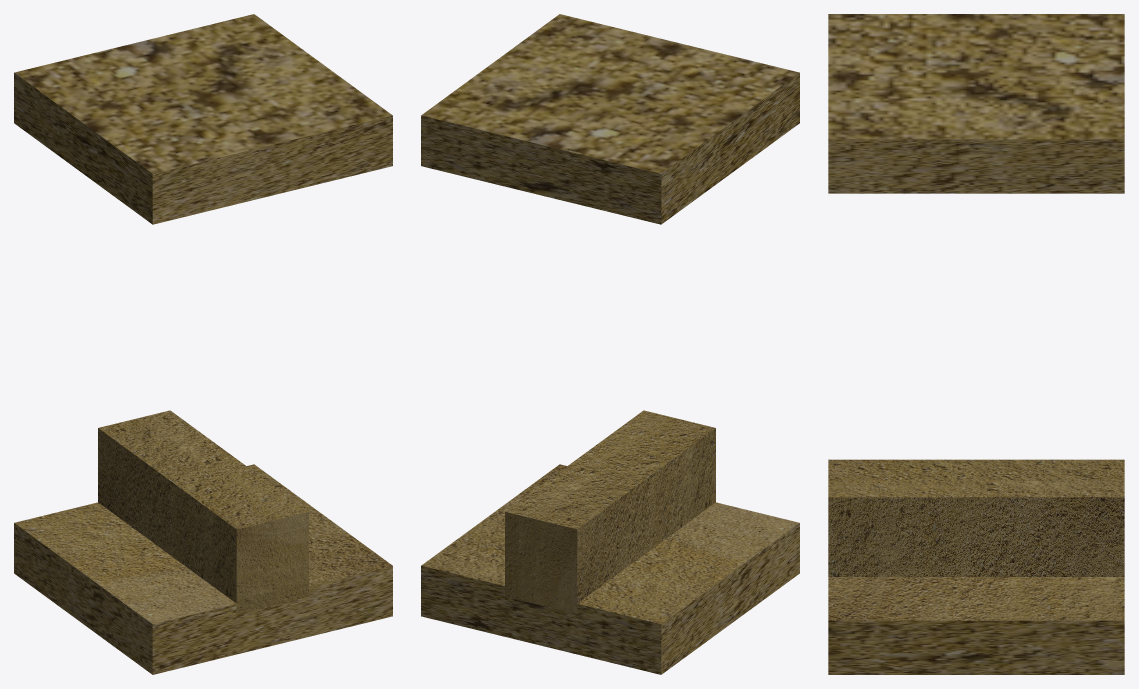
File: SandIndoorBridge.glb
3 renders of one model, left to right at view 1: azimuth 30°, elevation 25°; view 2: azimuth 150°, elevation 25°; view 3: azimuth 270°, elevation 25°, orthographic. The views are drawn at different scales.
Parts seen in each view (by area): view 1: SolidFloor; view 2: SolidFloor; view 3: SolidFloor.
Part boxes in pixels (x1,y1,x2,y2): SolidFloor: (14, 14, 392, 674); SolidFloor: (421, 14, 799, 674); SolidFloor: (828, 14, 1124, 674).
Bounding box in the file's own units: 2 × 3.99 × 2.
Materials: 1 (1 with a texture image).
